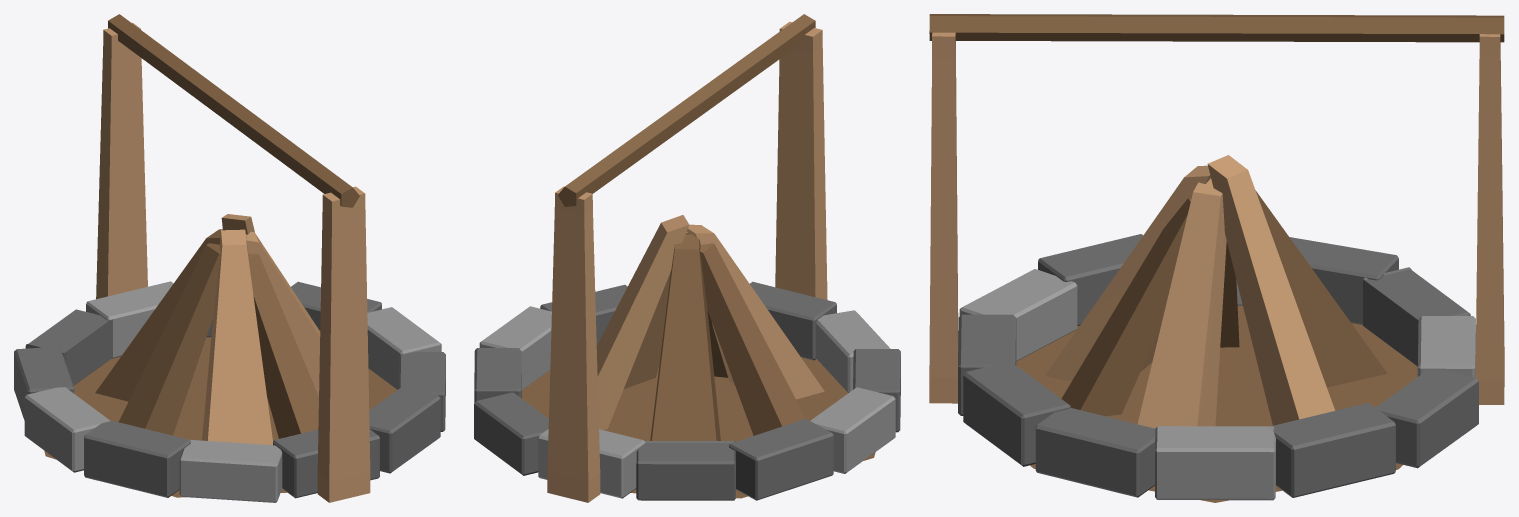
Rendered from bonfire.glb.
The picture shows the model from 3 angles, left to right: view 1: azimuth 30°, elevation 25°; view 2: azimuth 150°, elevation 25°; view 3: azimuth 270°, elevation 25°; orthographic projection. The views are drawn at different scales.
Parts seen in each view (by area): view 1: Campfire; view 2: Campfire; view 3: Campfire.
Boxes of the visible parts, x1,y1,x2,y2 form: Campfire: [14, 14, 445, 502]; Campfire: [474, 14, 900, 502]; Campfire: [929, 14, 1504, 502].
Size of the model in its own units: 2.42 by 1.92 by 2.66.
